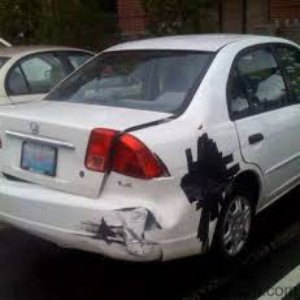bumper_scratch: (49, 194, 183, 263)
